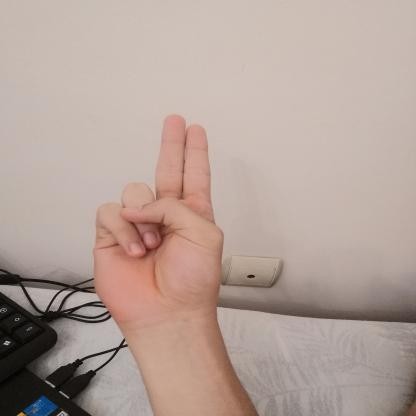TA: (70, 102, 244, 344)
